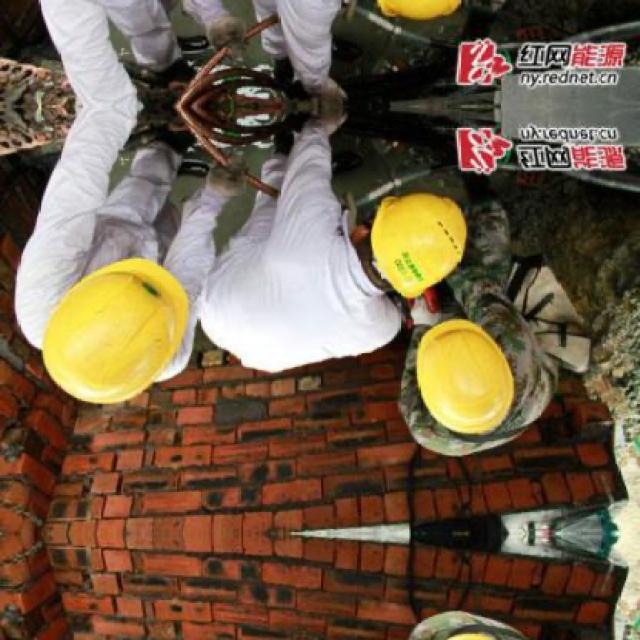con casco: (0, 208, 202, 418), (337, 156, 498, 318), (428, 303, 545, 468)
